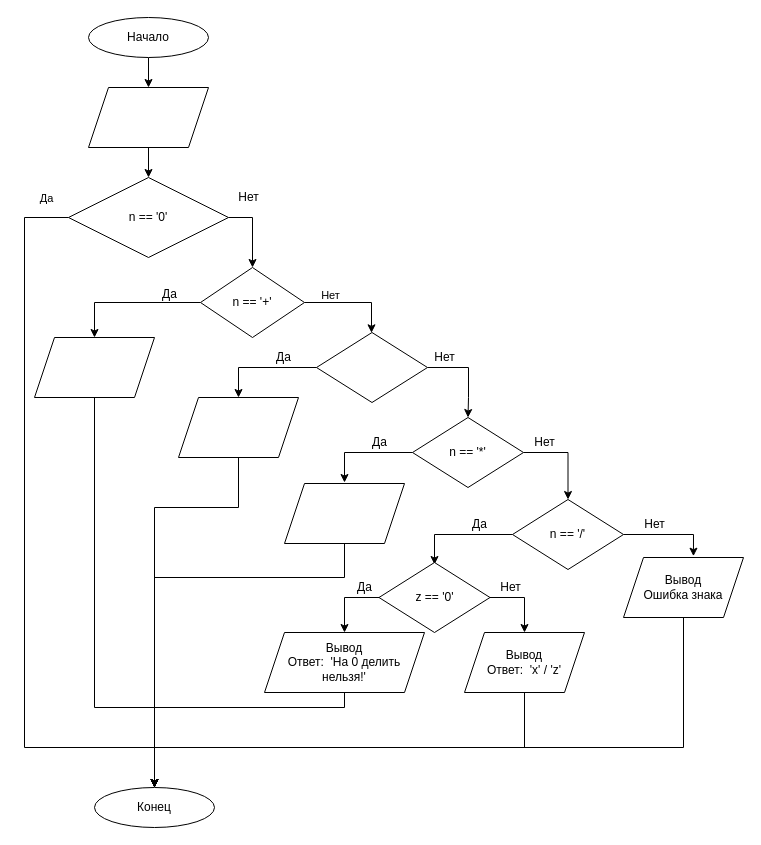
Image size: 761x845. Some labels were removed from this diagram. Each missing label, with the centre of its shape:
n == '-': (x=372, y=367)
Ввод x, n, z: (x=148, y=117)
Вывод Ответ: 'x' * 'z': (x=344, y=513)
Вывод Ответ: 'x' + 'z': (x=94, y=367)
Вывод Ответ: 'x' - 'z': (x=238, y=427)
